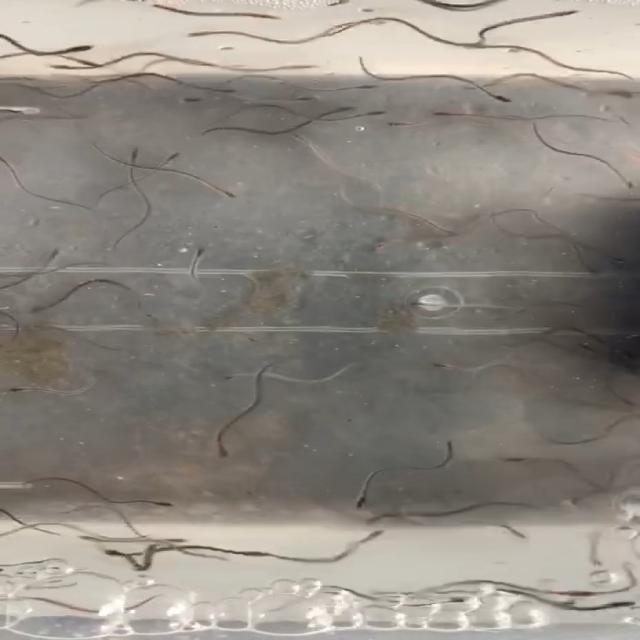active_glass_eel: (428, 592, 511, 613), (185, 432, 239, 460), (472, 80, 522, 108), (339, 482, 380, 510), (580, 592, 626, 616), (284, 59, 326, 85), (426, 356, 460, 384), (129, 495, 180, 513), (179, 238, 219, 260), (178, 23, 219, 44), (80, 542, 119, 563), (381, 120, 432, 136), (500, 452, 550, 468), (213, 366, 254, 385), (346, 79, 386, 98), (2, 376, 35, 398), (429, 106, 467, 125), (163, 144, 195, 166), (75, 526, 110, 546), (253, 8, 289, 27), (201, 83, 243, 99), (333, 104, 363, 125), (24, 296, 47, 322), (279, 128, 316, 144), (66, 40, 106, 54), (356, 104, 388, 121), (205, 183, 239, 199), (425, 223, 463, 237), (284, 94, 311, 112), (103, 146, 145, 156), (556, 3, 582, 18), (364, 514, 390, 529), (406, 296, 431, 308), (34, 245, 61, 256), (49, 63, 74, 73), (604, 253, 622, 264)
